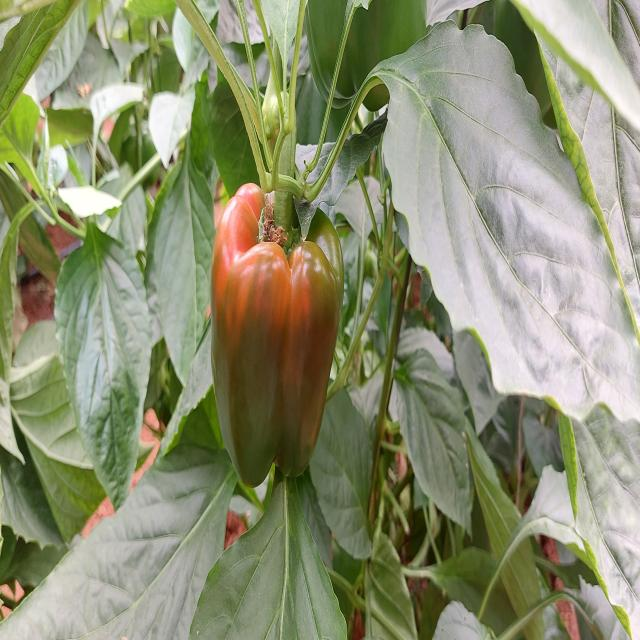BrownishRed--Can-be-Harvested: (216, 167, 345, 508)
